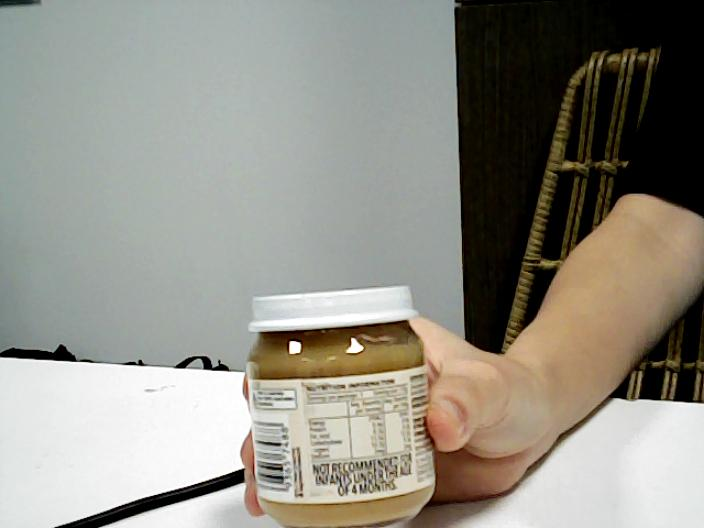Babyfood_100-199g_NonHalal_NonHealthy: (252, 288, 429, 526)
